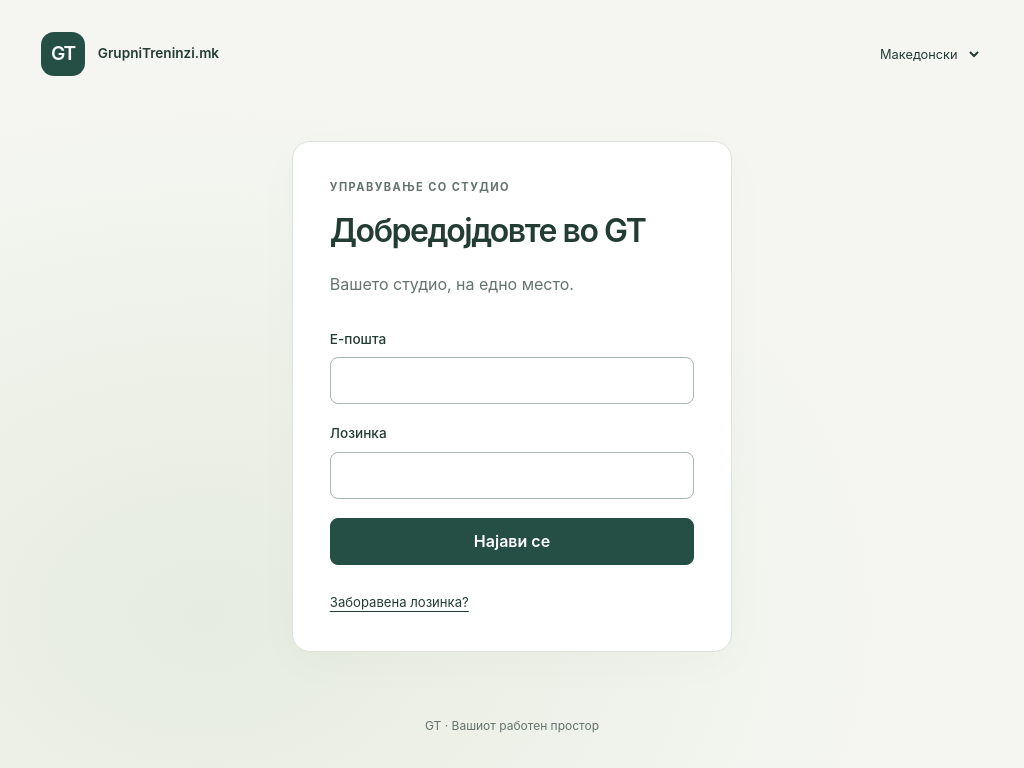
Scenario: studio foundation › submits login credentials and displays server validation errors
In the field labelled "Е-пошта": (512, 381) [330,357,694,404], type "ana@example.test"
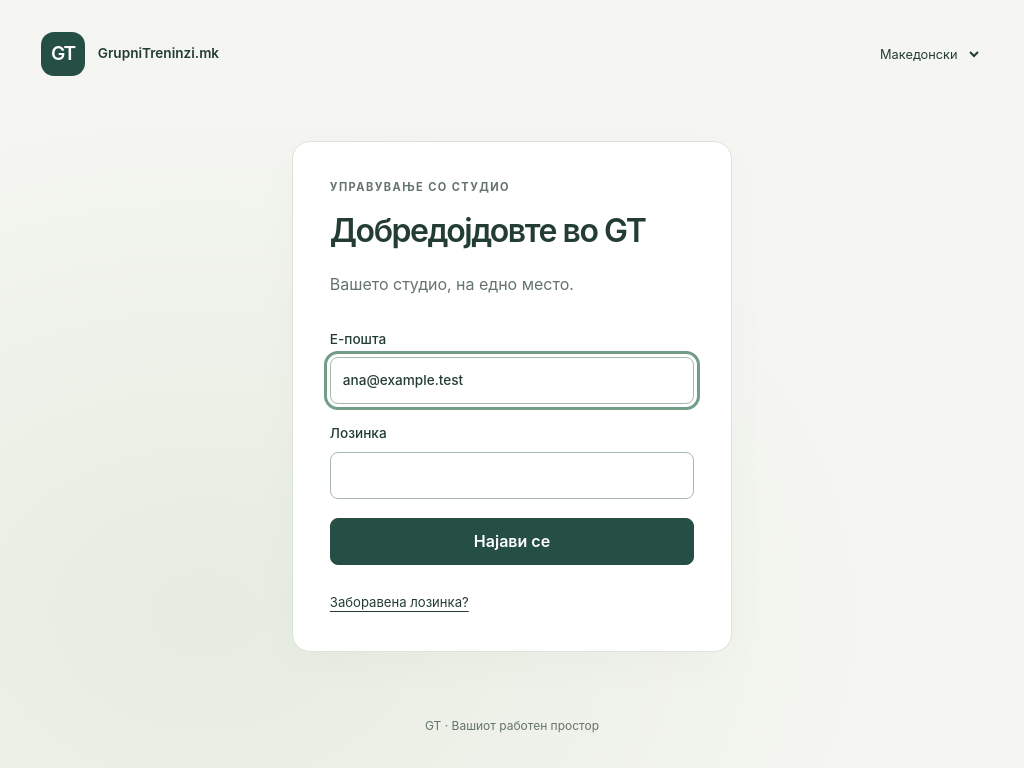
In the password field labelled "Лозинка": (512, 475) [330,452,694,499], type "test-password"
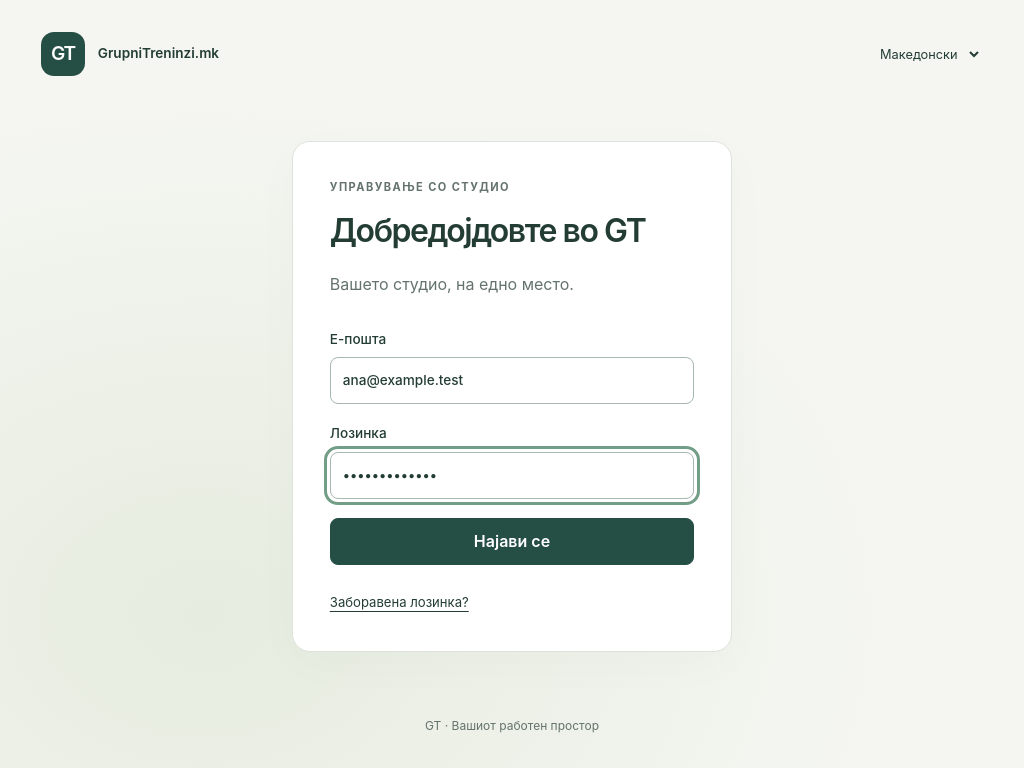
Click the button "Најави се": (512, 542) [330,518,694,566]
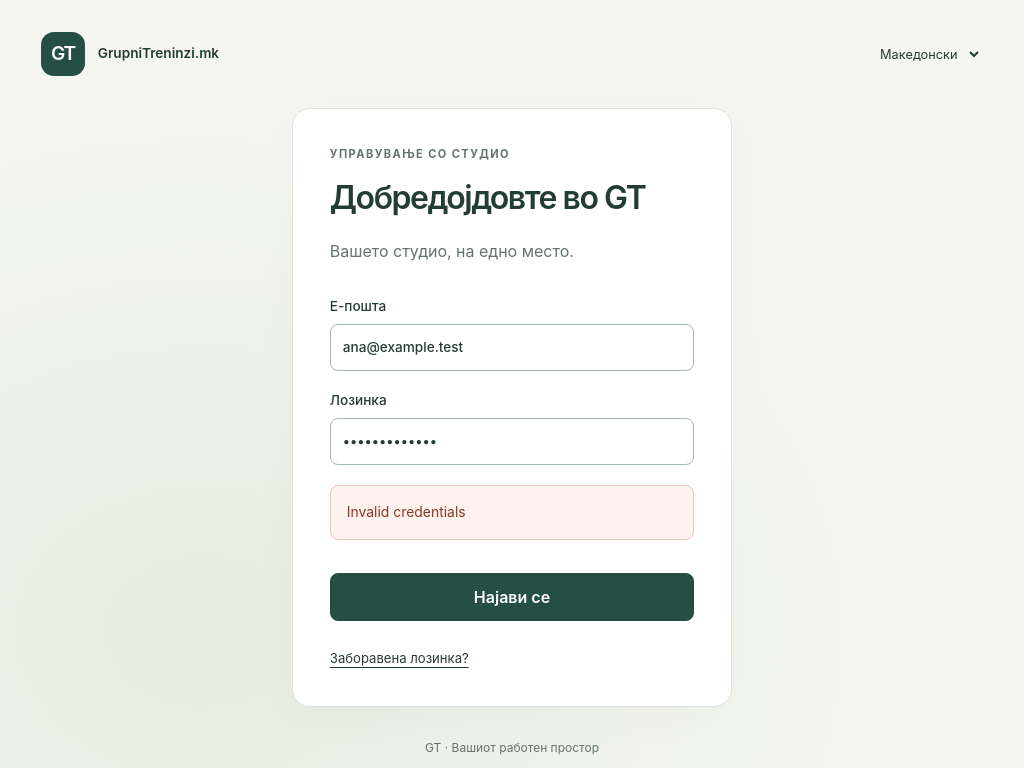
Result: the message reads "Invalid credentials" at [347,504,466,520]
